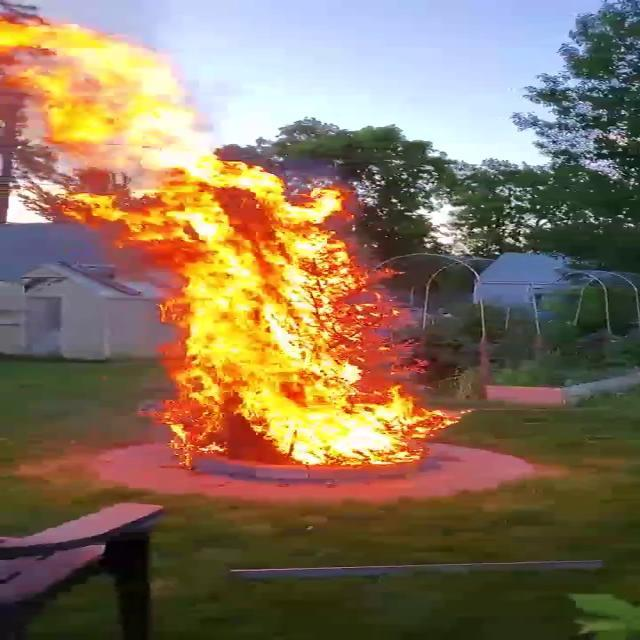Fire: (22, 18, 452, 470)
